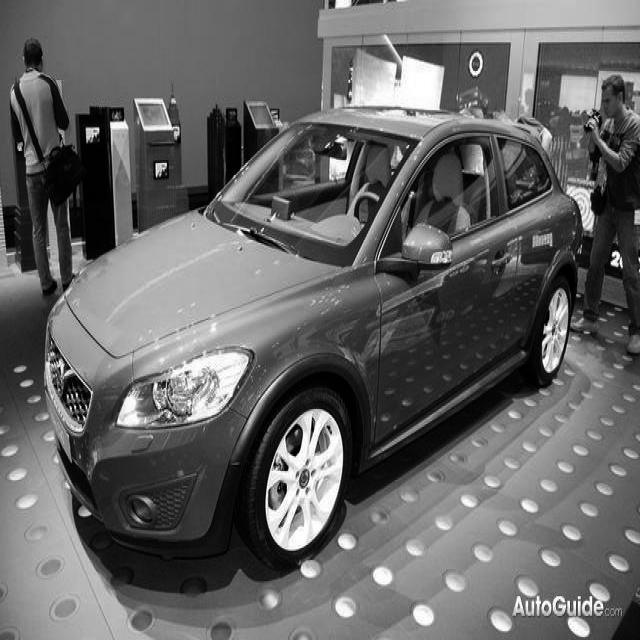car: (42, 101, 583, 572)
